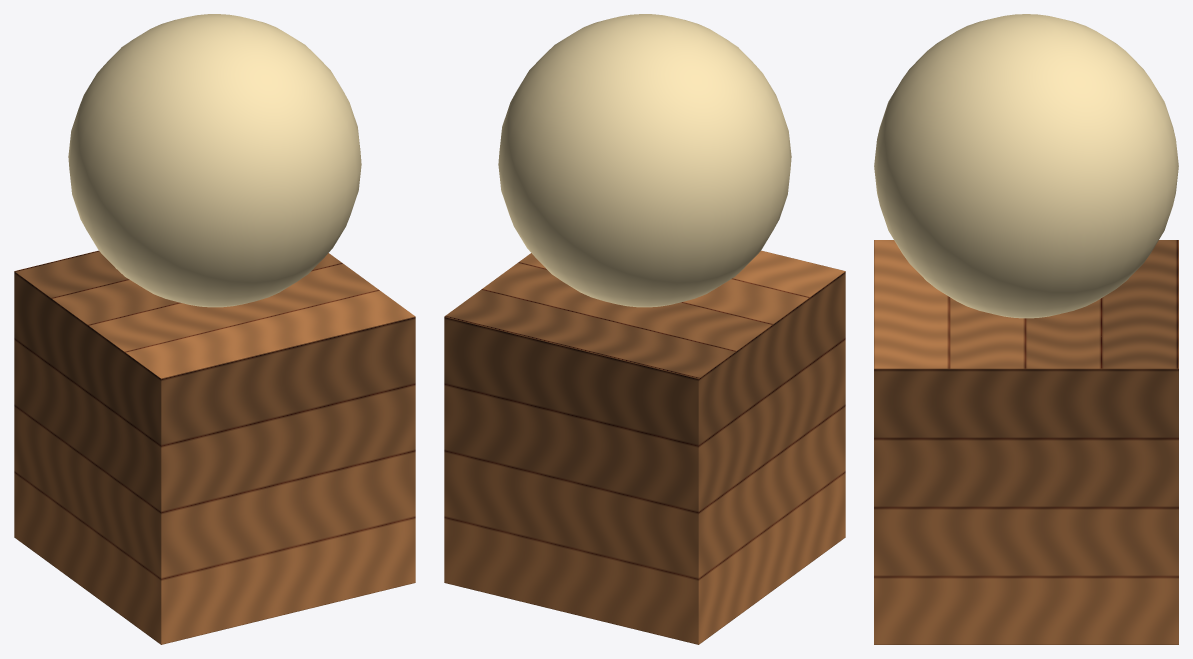
Rendered from crate.glb.
3 renders of one model, left to right at view 1: azimuth 30°, elevation 25°; view 2: azimuth 150°, elevation 25°; view 3: azimuth 270°, elevation 25°, orthographic. The views are drawn at different scales.
Visible parts, largest first — view 1: Crate, Ball; view 2: Crate, Ball; view 3: Crate, Ball.
Boxes of the visible parts, x1=… form: Crate: x1=14, y1=250, x2=415, y2=644; Ball: x1=68, y1=14, x2=361, y2=307; Crate: x1=444, y1=250, x2=845, y2=644; Ball: x1=498, y1=14, x2=791, y2=307; Crate: x1=874, y1=240, x2=1178, y2=644; Ball: x1=874, y1=14, x2=1178, y2=318.
Size of the model in its own units: 1 by 2 by 1.
2 materials, 1 textured.
